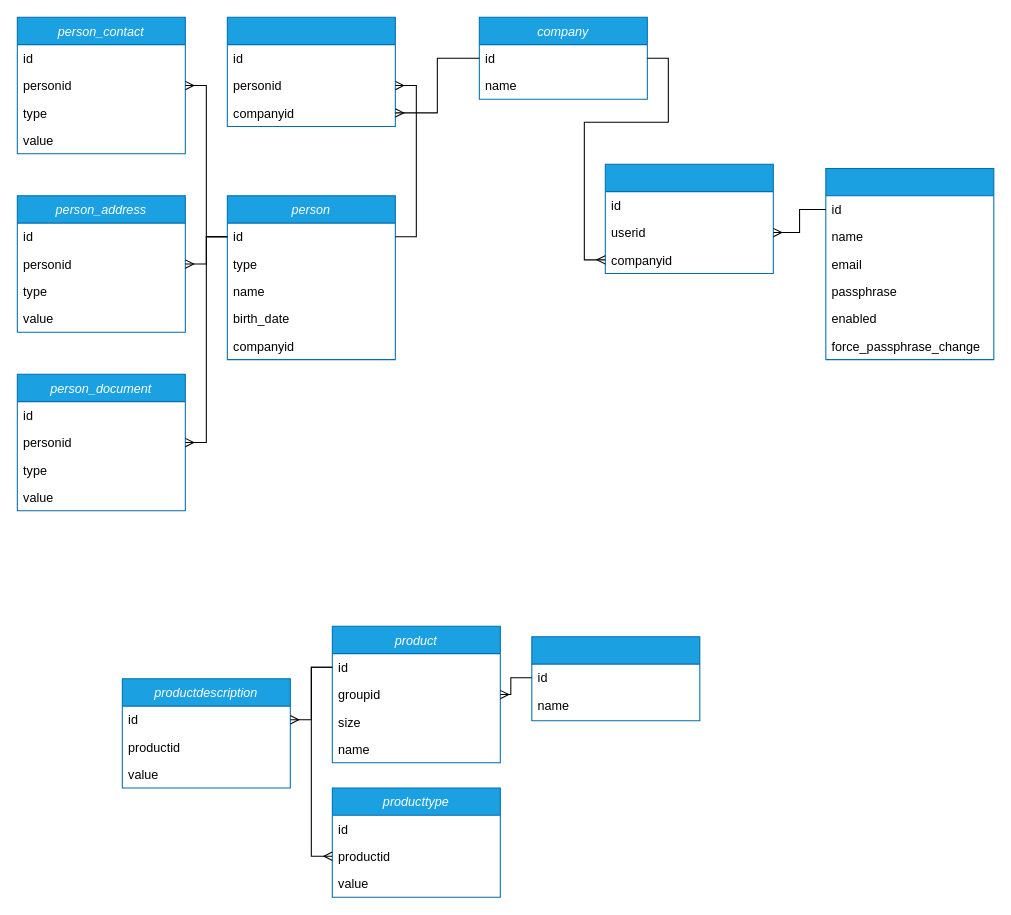
This 1011x915 diagram has some shape labels left out. The box of each missing label's shape, as (x1, y1, x2, y2) in pixels:
companyxperson: (226, 16, 395, 127)
productgroup: (531, 636, 700, 721)
user: (825, 167, 994, 360)
userxcompany: (604, 163, 773, 274)
